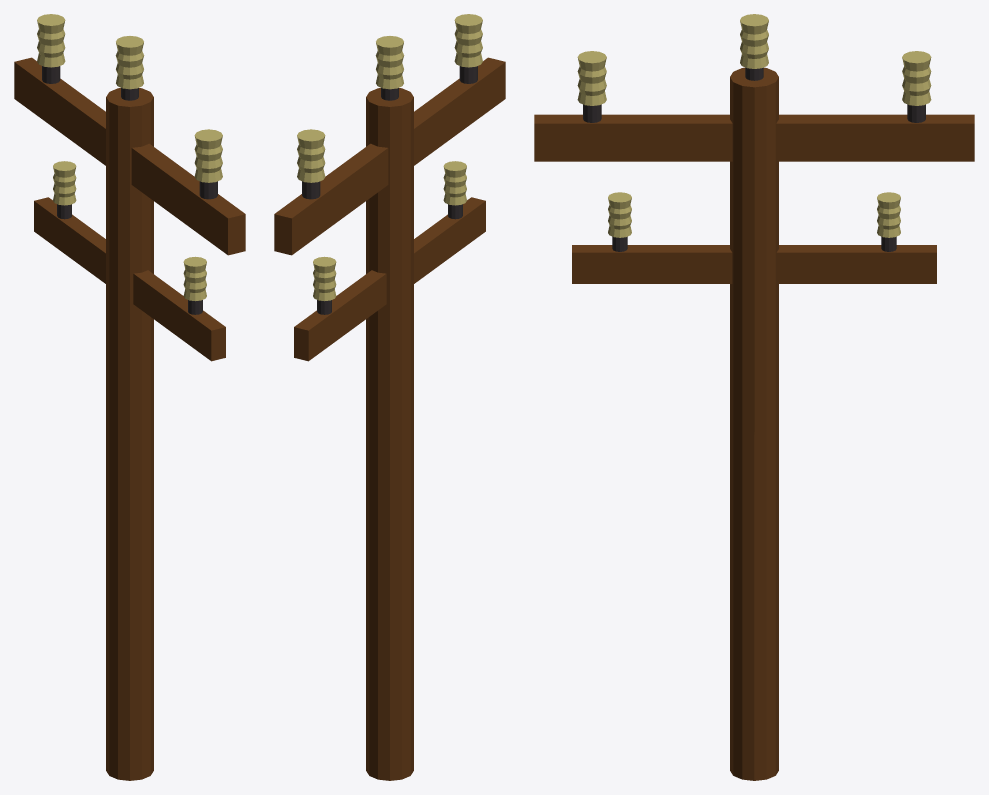
Rendered from phoneLine.fbx.
The picture shows the model from 3 angles, left to right: view 1: azimuth 30°, elevation 25°; view 2: azimuth 150°, elevation 25°; view 3: azimuth 270°, elevation 25°; orthographic projection. The views are drawn at different scales.
Visible parts, largest first — view 1: Cylinder, Cube, Cube.001, Cylinder.001, Cylinder.006, Cylinder.004, Cylinder.007, Cylinder.010; view 2: Cylinder, Cube, Cube.001, Cylinder.006, Cylinder.001, Cylinder.004, Cylinder.010, Cylinder.007; view 3: Cylinder, Cube, Cube.001, Cylinder.001, Cylinder.006, Cylinder.004, Cylinder.010, Cylinder.007.
Part boxes in pixels (x1,y1,x2,y2): Cylinder: [106, 88, 153, 780]; Cube: [14, 57, 245, 255]; Cube.001: [34, 197, 225, 361]; Cylinder.001: [194, 129, 222, 199]; Cylinder.006: [37, 14, 65, 83]; Cylinder.004: [115, 36, 144, 100]; Cylinder.007: [53, 161, 76, 219]; Cylinder.010: [183, 256, 206, 314]; Cylinder: [366, 88, 413, 780]; Cube: [274, 57, 505, 255]; Cube.001: [294, 197, 485, 361]; Cylinder.006: [297, 129, 325, 199]; Cylinder.001: [454, 14, 482, 83]; Cylinder.004: [375, 36, 404, 100]; Cylinder.010: [443, 161, 466, 219]; Cylinder.007: [313, 256, 336, 314]; Cylinder: [730, 67, 778, 780]; Cube: [534, 114, 974, 161]; Cube.001: [572, 245, 936, 283]; Cylinder.001: [577, 51, 606, 122]; Cylinder.006: [902, 51, 931, 122]; Cylinder.004: [740, 14, 768, 80]; Cylinder.010: [608, 192, 631, 251]; Cylinder.007: [877, 192, 900, 251].
Size of the model in its own units: 47.08 by 794 by 422.
